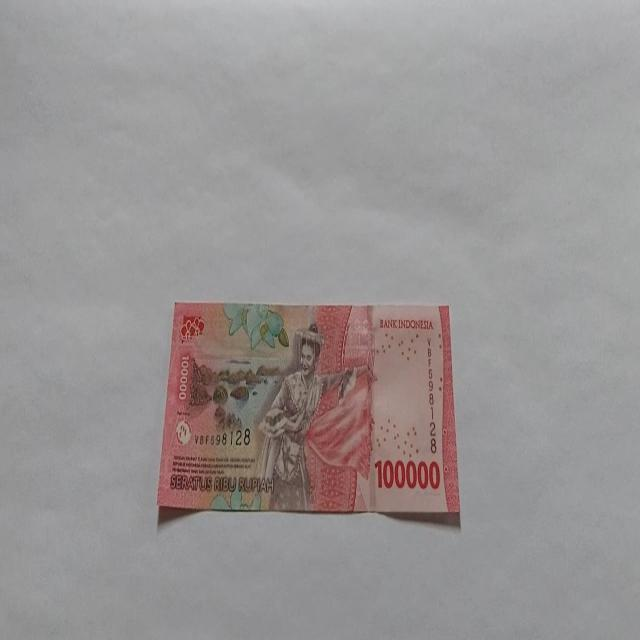Kertas: (156, 300, 460, 520), (373, 456, 441, 492)
